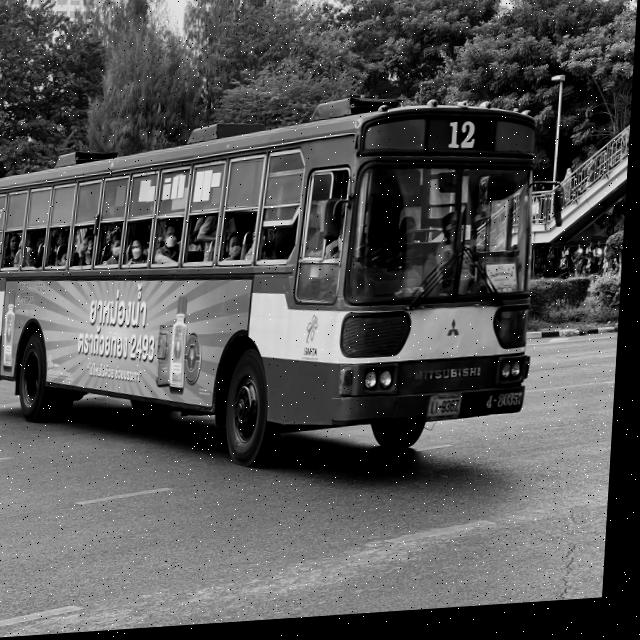BMTA-bus: (0, 106, 540, 473)
Bus Line Number: (440, 119, 488, 169)
Bus Side Number: (485, 398, 528, 418)
Destination Sign: (477, 254, 529, 296)
